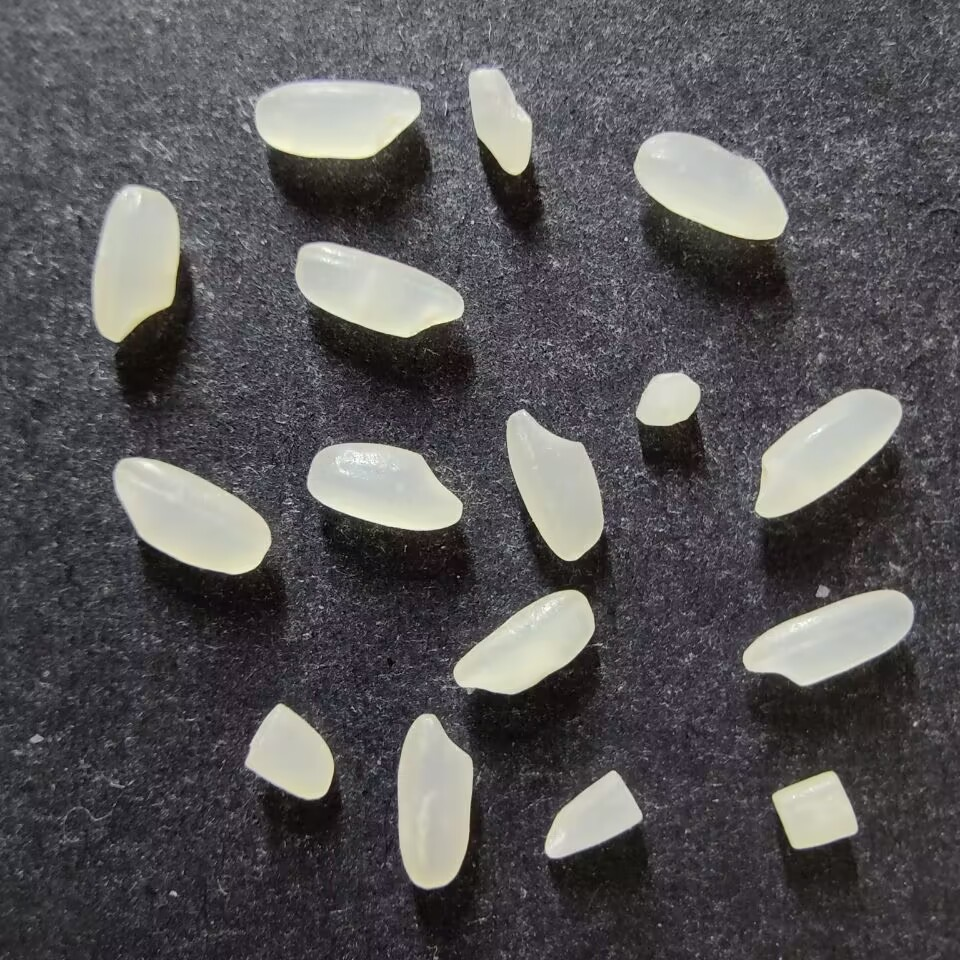broken: (543, 769, 643, 859), (244, 702, 334, 800), (771, 769, 859, 850), (467, 67, 532, 175), (633, 371, 701, 427)
rice: (753, 388, 903, 519), (113, 456, 271, 575), (633, 131, 788, 241), (741, 589, 915, 686), (293, 242, 464, 338), (504, 408, 604, 561), (453, 588, 595, 694), (91, 185, 181, 342), (306, 442, 463, 531), (396, 711, 472, 889), (253, 80, 421, 159)
